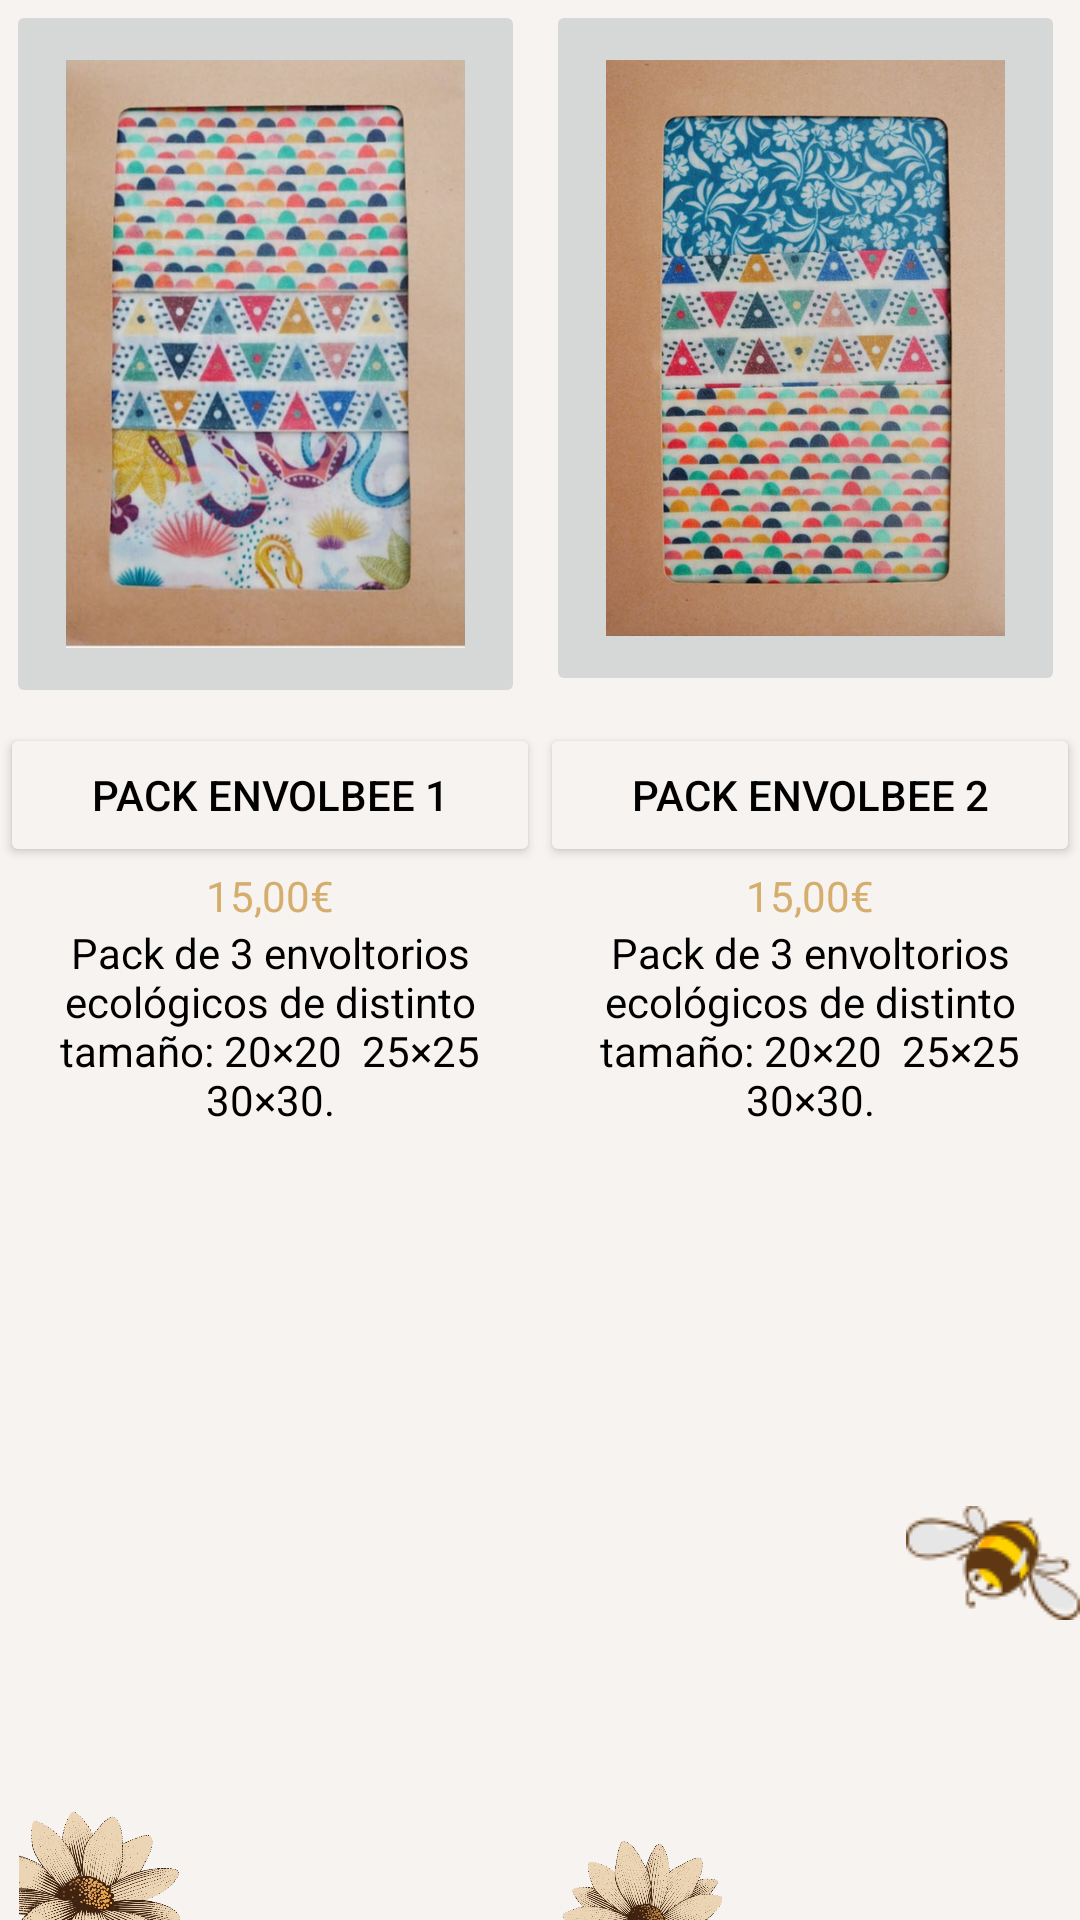

Locate icon controls on the screen. Image size 1080 x 1920, boxes as detection(x1, y1, x2, y2).
abejita: detection(906, 1506, 1080, 1620)
